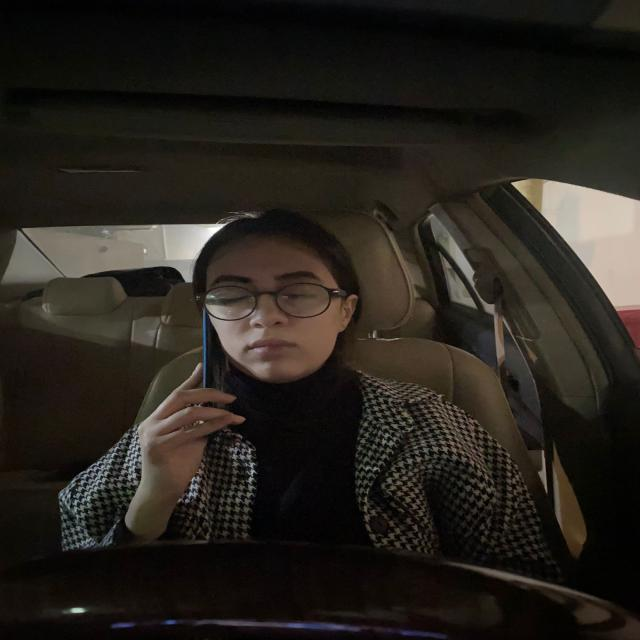phone: (192, 302, 227, 406)
